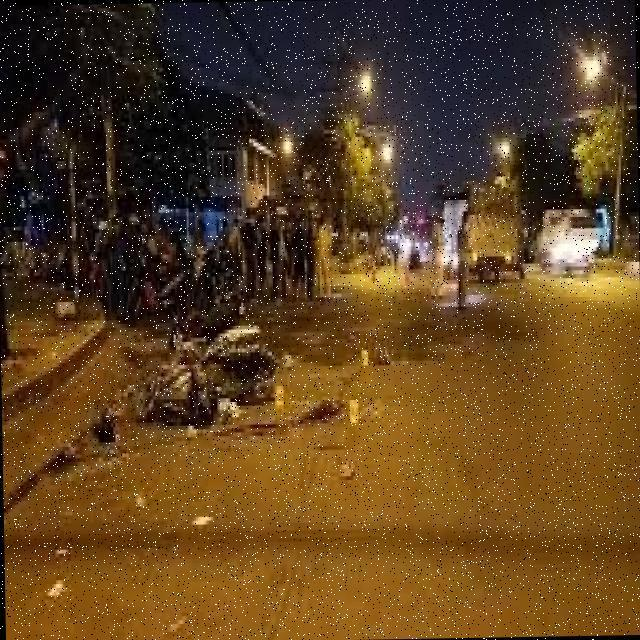accident: (129, 298, 291, 479)
